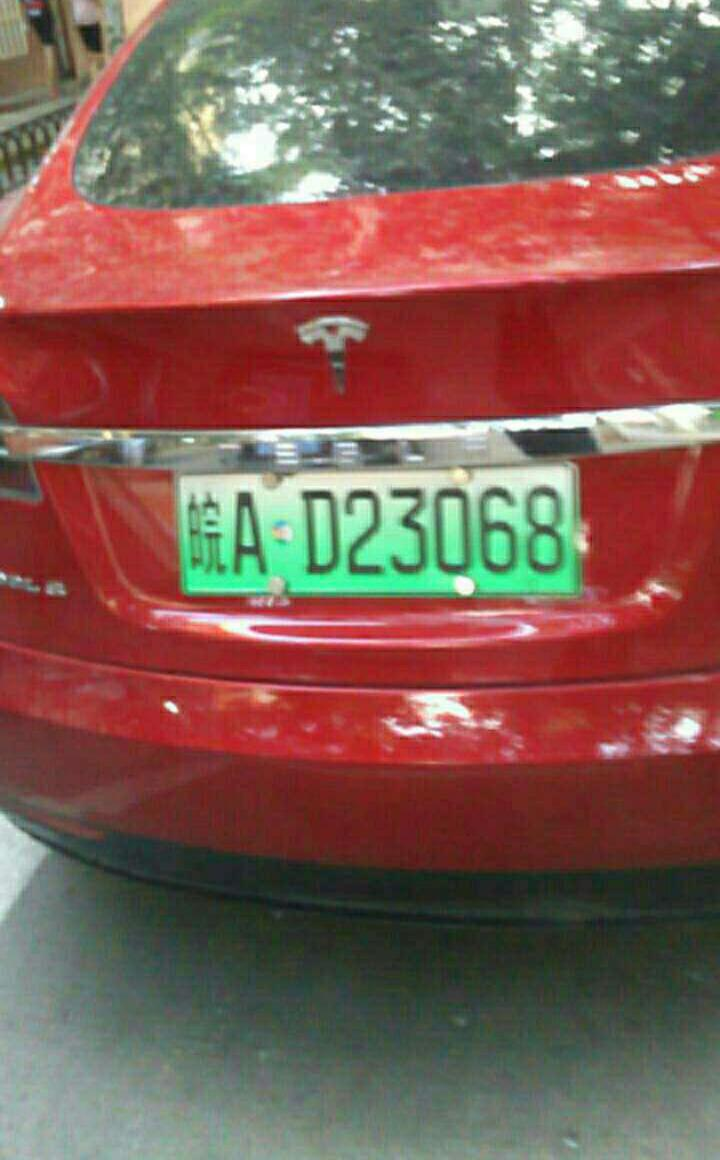car_id: (177, 470, 569, 590)
